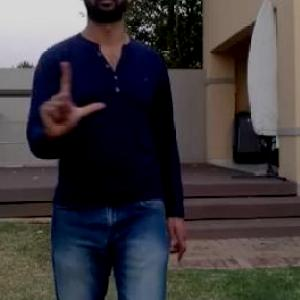land_hand: (30, 53, 106, 142)
